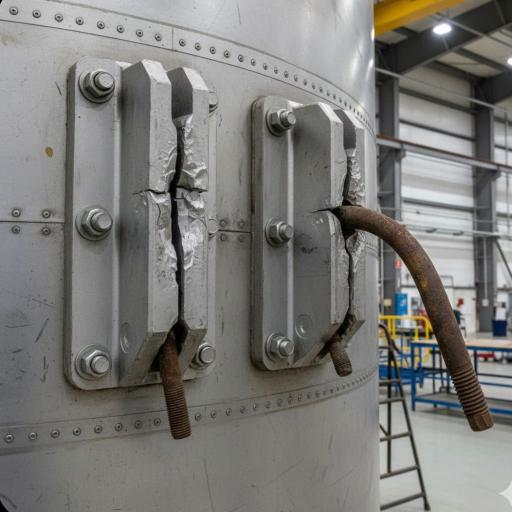fastening deformation: (129, 99, 221, 319)
lack of details: (304, 288, 387, 413)
